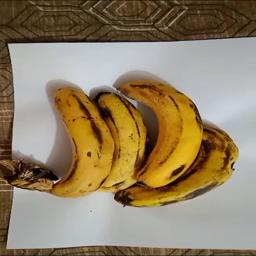Banana Semifresh: (0, 86, 117, 199), (118, 76, 206, 190), (92, 88, 144, 198), (115, 160, 233, 208)
